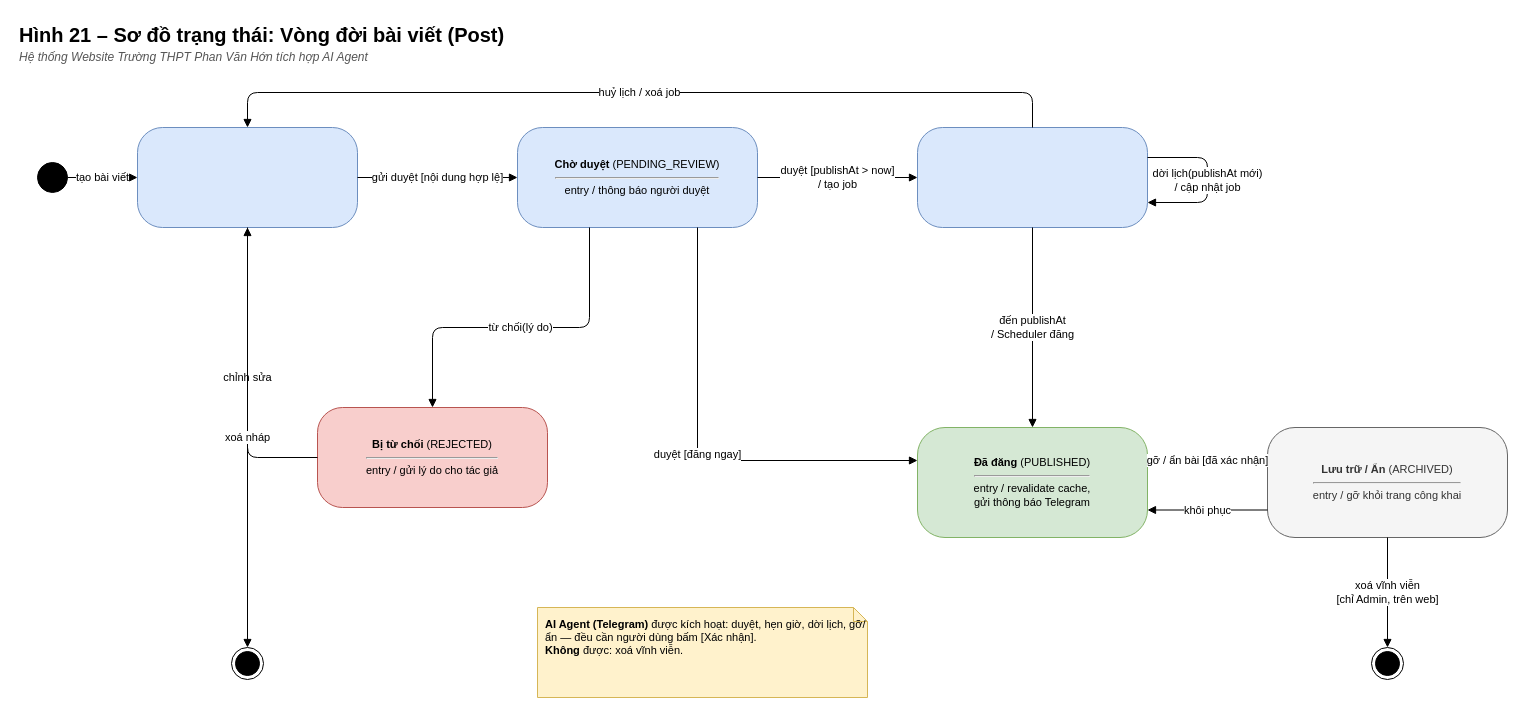
The diagram is 1525 pixels wide and 715 high, and some of its shapes have lost their labels. The centre of each missing label's shape, as x and y in pixels:
Nháp (DRAFT) do / chỉnh sửa nội dung: (x=247, y=177)
Đã lên lịch (SCHEDULED) entry / tạo job BullMQ exit / xoá job: (x=1032, y=177)
